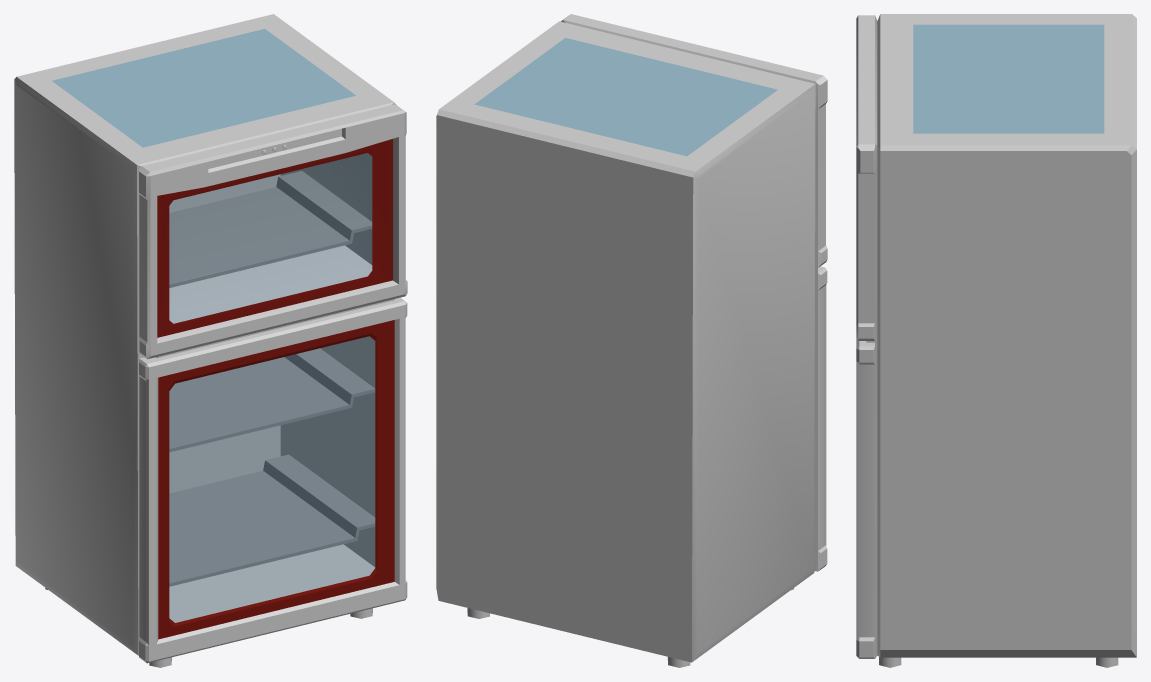
The model's file is MIDEA80M100.FBX.
The picture shows the model from 3 angles, left to right: view 1: azimuth 30°, elevation 25°; view 2: azimuth 150°, elevation 25°; view 3: azimuth 270°, elevation 25°; orthographic projection. The views are drawn at different scales.
Visible parts, largest first — view 1: MIDEA80M100; view 2: MIDEA80M100; view 3: MIDEA80M100.
Part boxes in pixels (x1,y1,x2,y2): MIDEA80M100: (14, 14, 407, 667); MIDEA80M100: (436, 14, 827, 667); MIDEA80M100: (856, 14, 1136, 667).
Bounding box in the file's own units: 1092 × 2027 × 970.
